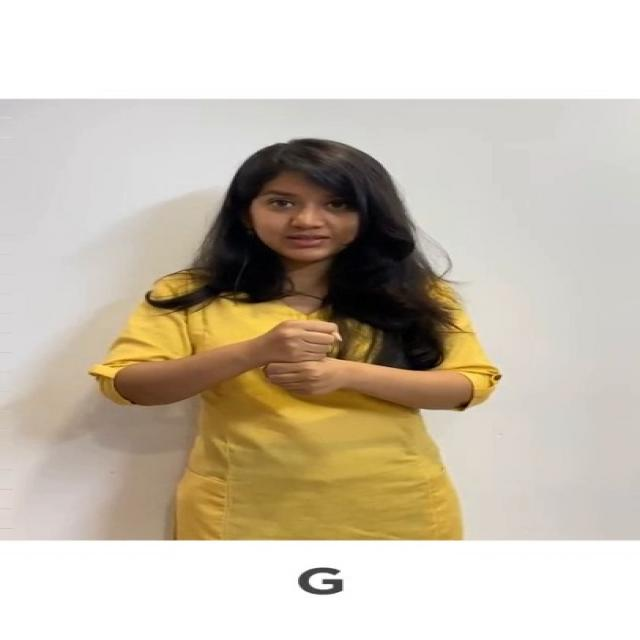G: (226, 308, 399, 406)
